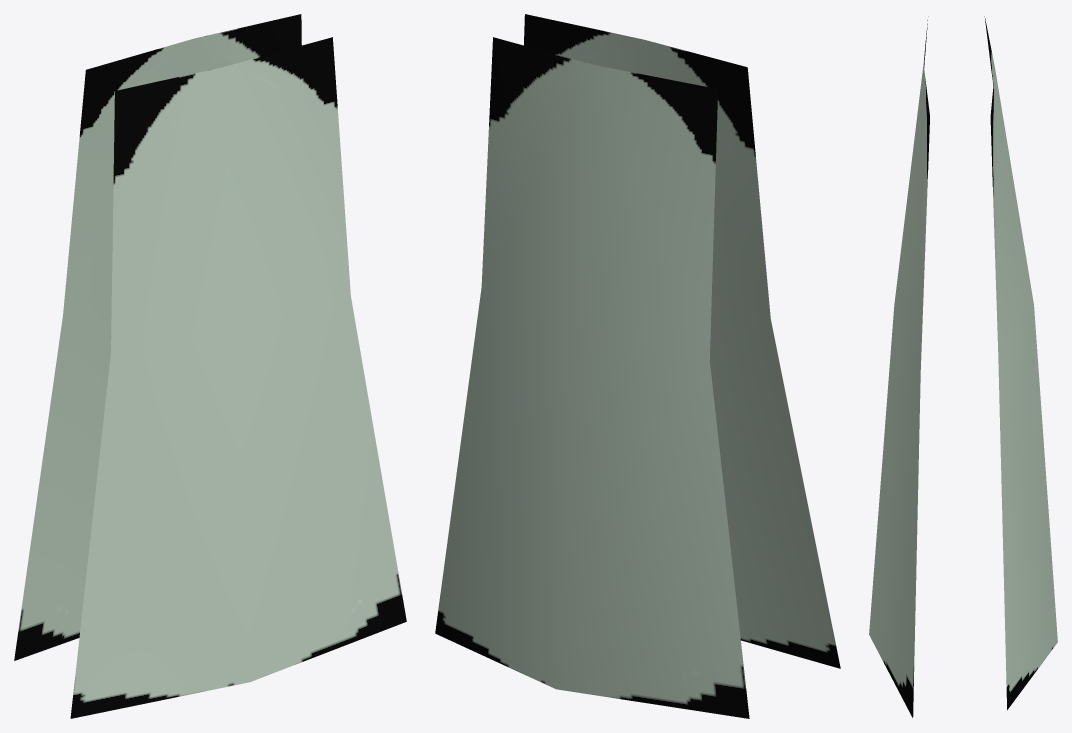
File: rays_vertical_01.obj
3 views of the same model, side by side, from view 1: azimuth 30°, elevation 25°; view 2: azimuth 150°, elevation 25°; view 3: azimuth 270°, elevation 25° (orthographic). The views are drawn at different scales.
Visible parts, largest first — view 1: obj2, obj1; view 2: obj1, obj2; view 3: obj1, obj2.
Boxes of the visible parts, left/top/right/bottom form: obj2: left=70, top=37, right=406, bottom=718; obj1: left=14, top=14, right=301, bottom=660; obj1: left=435, top=37, right=749, bottom=718; obj2: left=524, top=14, right=840, bottom=668; obj1: left=984, top=16, right=1057, bottom=710; obj2: left=869, top=16, right=929, bottom=717.
Size of the model in its own units: 3894 by 6279 by 1880.
1 material, 1 textured.
